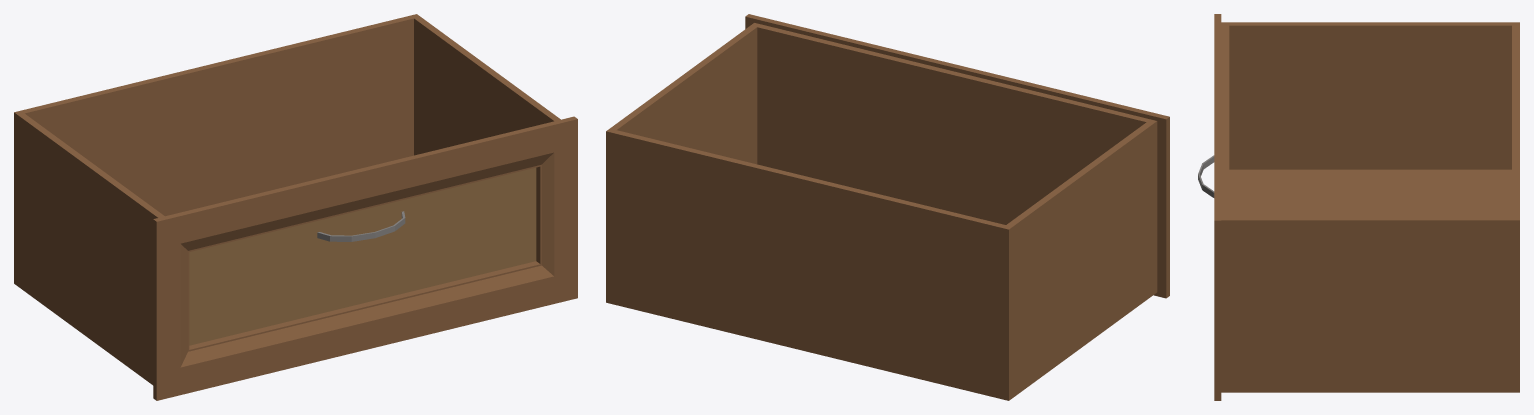
Rendered from Cupboard_12_02.fbx.
The picture shows the model from 3 angles, left to right: view 1: azimuth 30°, elevation 25°; view 2: azimuth 150°, elevation 25°; view 3: azimuth 270°, elevation 25°; orthographic projection.
Parts seen in each view (by area): view 1: Cupboard_12_02; view 2: Cupboard_12_02; view 3: Cupboard_12_02.
Part boxes in pixels (<box>): Cupboard_12_02: <box>14,14,577,400</box>; Cupboard_12_02: <box>606,14,1169,400</box>; Cupboard_12_02: <box>1198,14,1519,400</box>.
Size of the model in its own units: 78.8 by 32.03 by 51.84.
